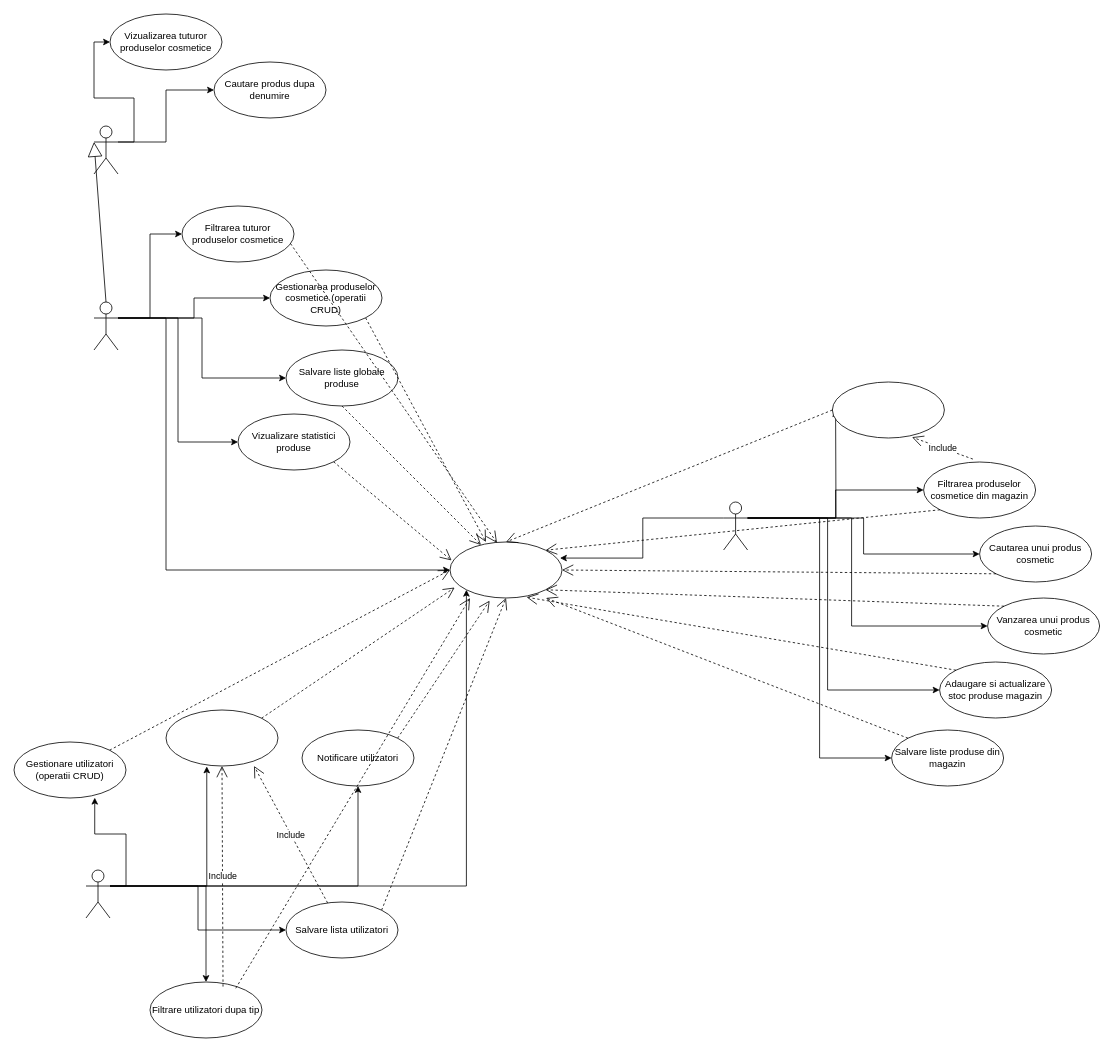
Some shapes in this 1114 by 1052 pixel diagram are drawn without their labels. The box of each missing label's shape, as (x1, y1, x2, y2) in pixels:
Administrator: (85, 869, 110, 918)
Angajat: (723, 501, 748, 550)
Autentificare: (449, 541, 562, 598)
Client: (93, 125, 118, 174)
Manager: (93, 301, 118, 350)
Vizualizare lista produse magazin: (832, 381, 944, 438)
Vizualizare lista utilizatori: (165, 709, 278, 766)
